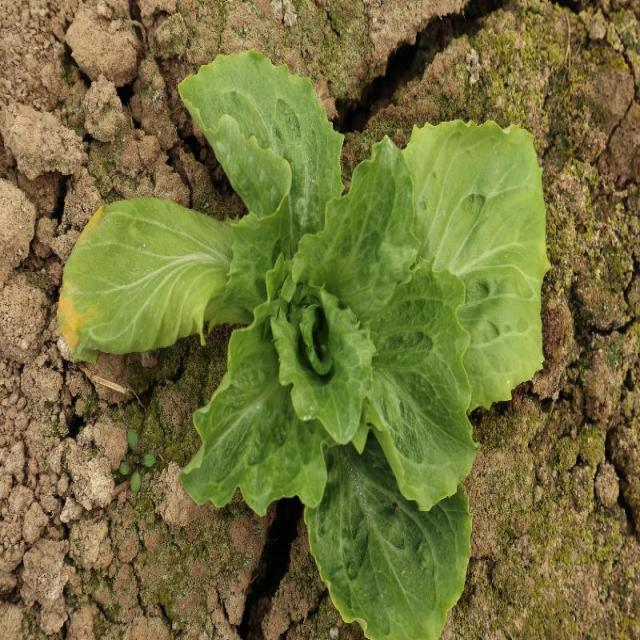crop: (58, 48, 548, 640)
